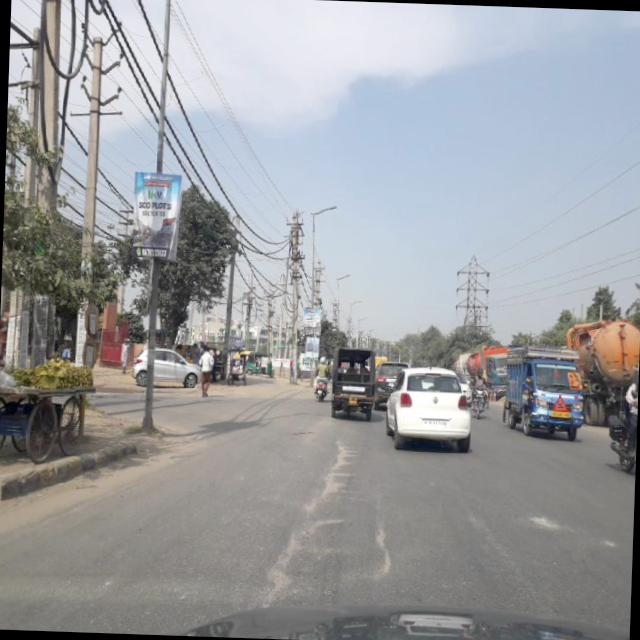pothole: (266, 432, 348, 597), (355, 497, 394, 584)
